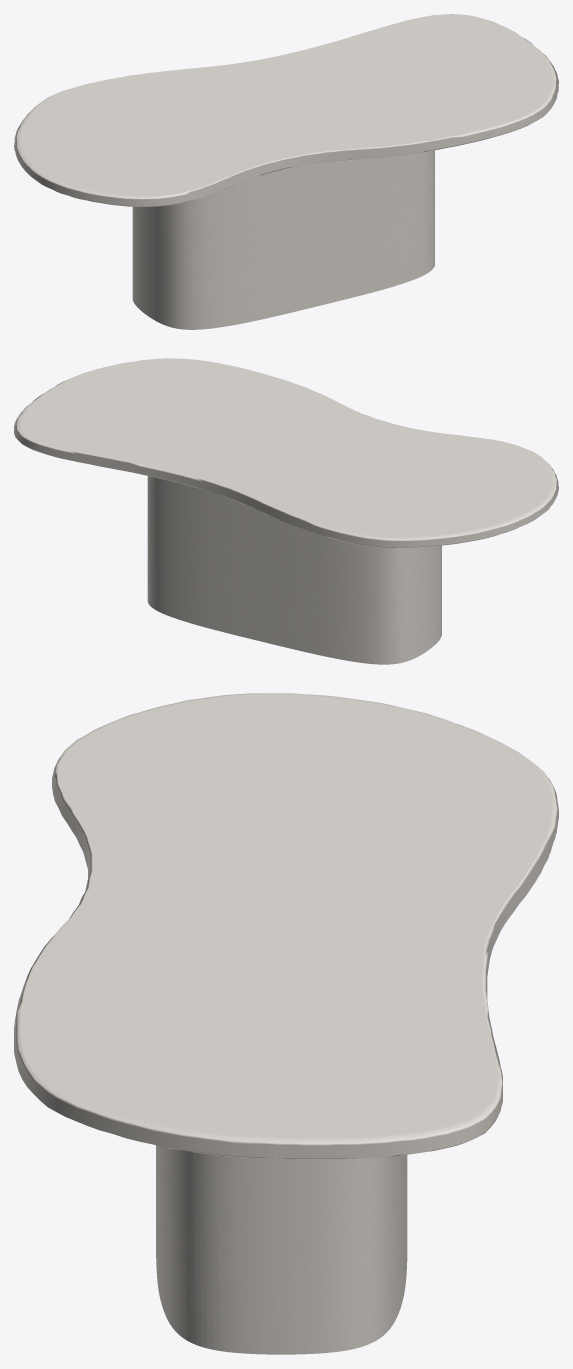
Rendered from pearlwhite_wave_round_fixed.glb.
3 renders of one model, top to bottom at view 1: azimuth 30°, elevation 25°; view 2: azimuth 150°, elevation 25°; view 3: azimuth 270°, elevation 25°, orthographic. The views are drawn at different scales.
Parts seen in each view (by area): view 1: round_wave, fixed; view 2: round_wave, fixed; view 3: round_wave, fixed.
Part boxes in pixels (bbox=[...]): round_wave: bbox=[14, 14, 558, 206]; fixed: bbox=[132, 150, 434, 329]; round_wave: bbox=[14, 358, 558, 548]; fixed: bbox=[147, 476, 441, 664]; round_wave: bbox=[14, 693, 558, 1159]; fixed: bbox=[156, 1145, 407, 1354].
Bounding box in the file's own units: 7.7 × 2.5 × 3.89.
1 material, 1 textured.
